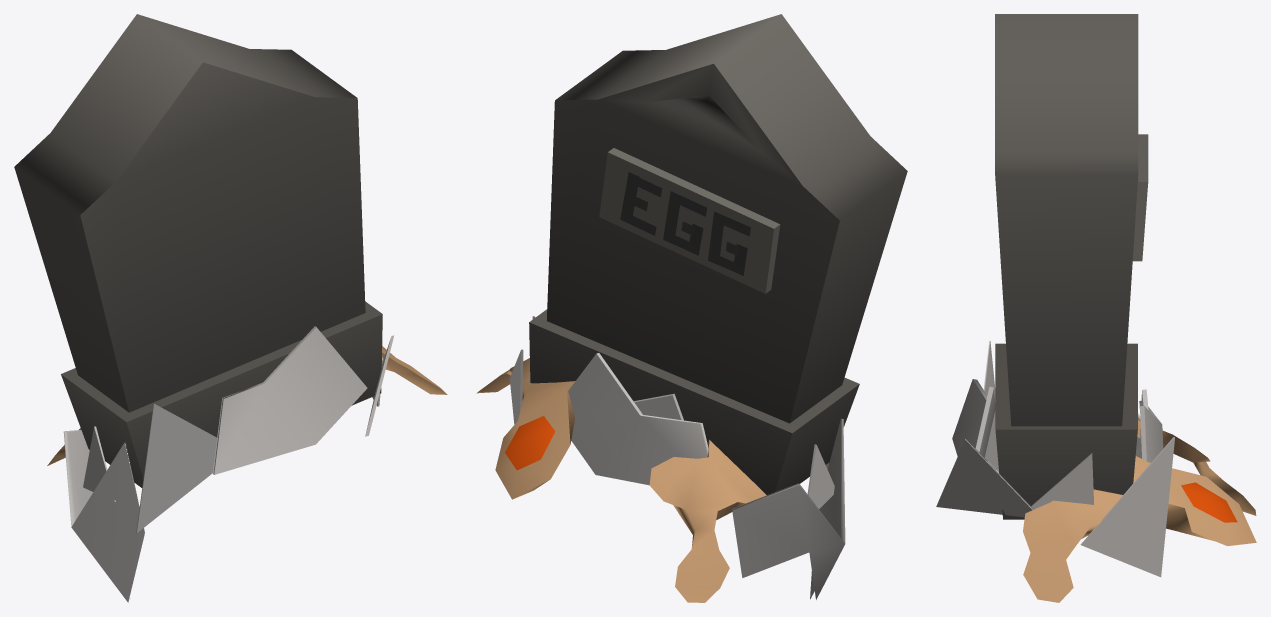
File: hat_RIP.glb
3 renders of one model, left to right at view 1: azimuth 30°, elevation 25°; view 2: azimuth 150°, elevation 25°; view 3: azimuth 270°, elevation 25°, orthographic. The views are drawn at different scales.
Parts seen in each view (by area): view 1: hat_RIP; view 2: hat_RIP; view 3: hat_RIP.
Boxes of the visible parts, x1,y1,x2,y2 form: hat_RIP: (14, 14, 447, 602); hat_RIP: (476, 14, 907, 602); hat_RIP: (936, 14, 1256, 602).
Size of the model in its own units: 0.3238 by 0.4299 by 0.2126.
